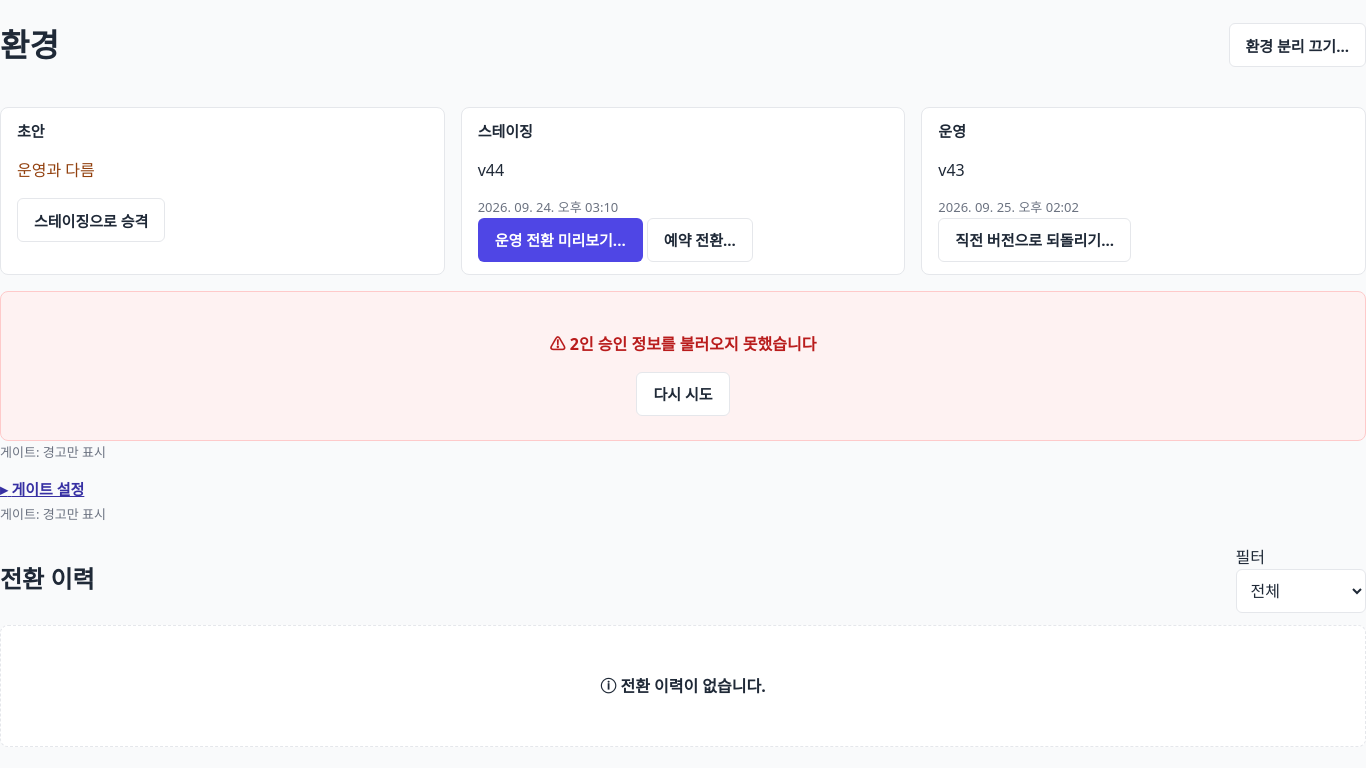
Test: EnvironmentTab › 스테이징 승격 확인창은 current.stagingDiff의 변경 요약을 보여준다(§4.5)
Step 1. Click the button "스테이징으로 승격" → (91, 220), box [17, 198, 165, 242]
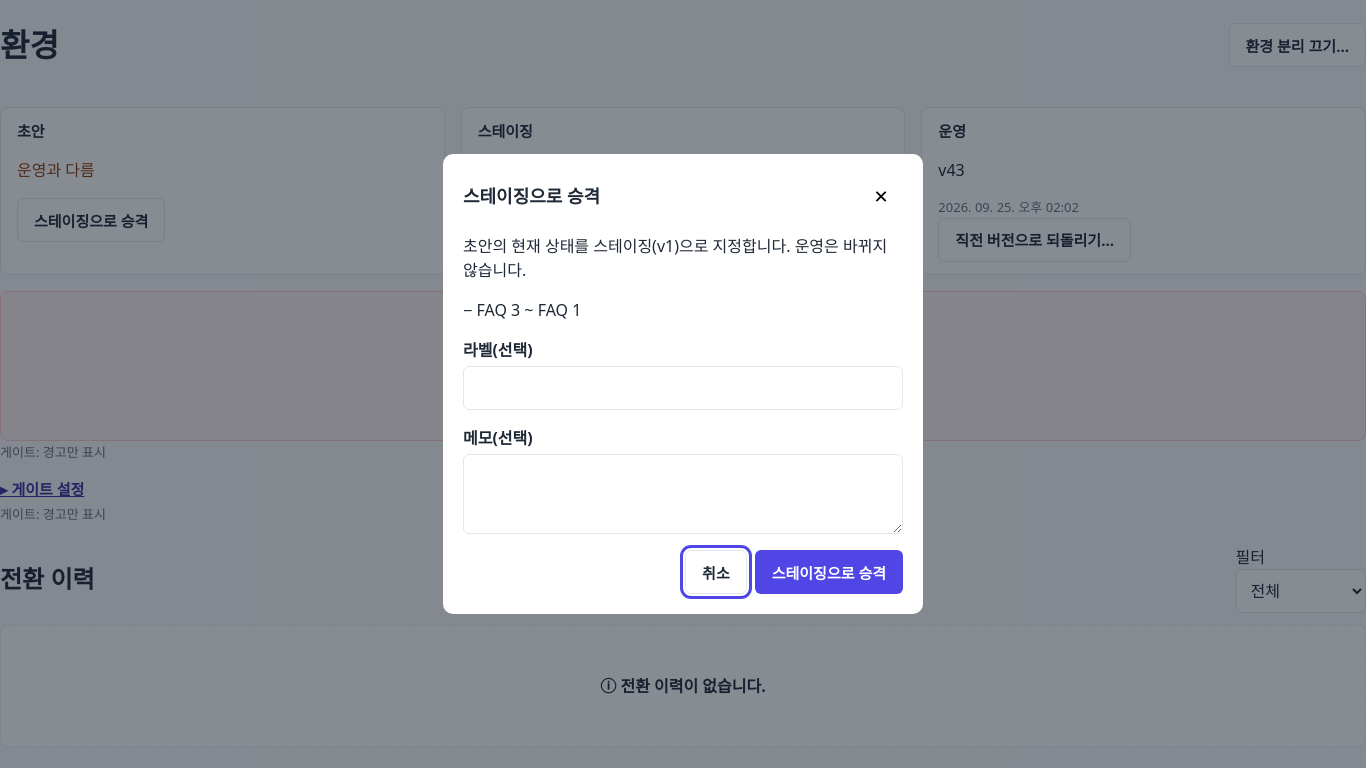
Expected: the text "− FAQ 3 ~ FAQ 1" is shown, [463, 299, 581, 321]
